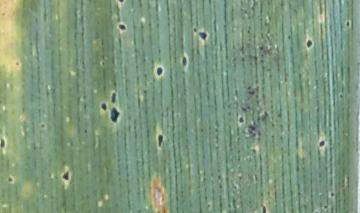tarspot: (109, 105, 121, 125), (155, 131, 165, 148), (180, 53, 189, 70), (61, 170, 72, 183), (154, 65, 165, 78), (197, 29, 208, 42), (304, 37, 314, 50), (317, 137, 327, 150), (236, 112, 246, 125), (99, 98, 107, 114), (110, 88, 117, 104), (259, 202, 269, 213), (343, 18, 352, 30), (1, 136, 7, 154), (116, 22, 127, 31), (6, 174, 15, 184), (329, 190, 337, 199), (114, 1, 126, 7)
